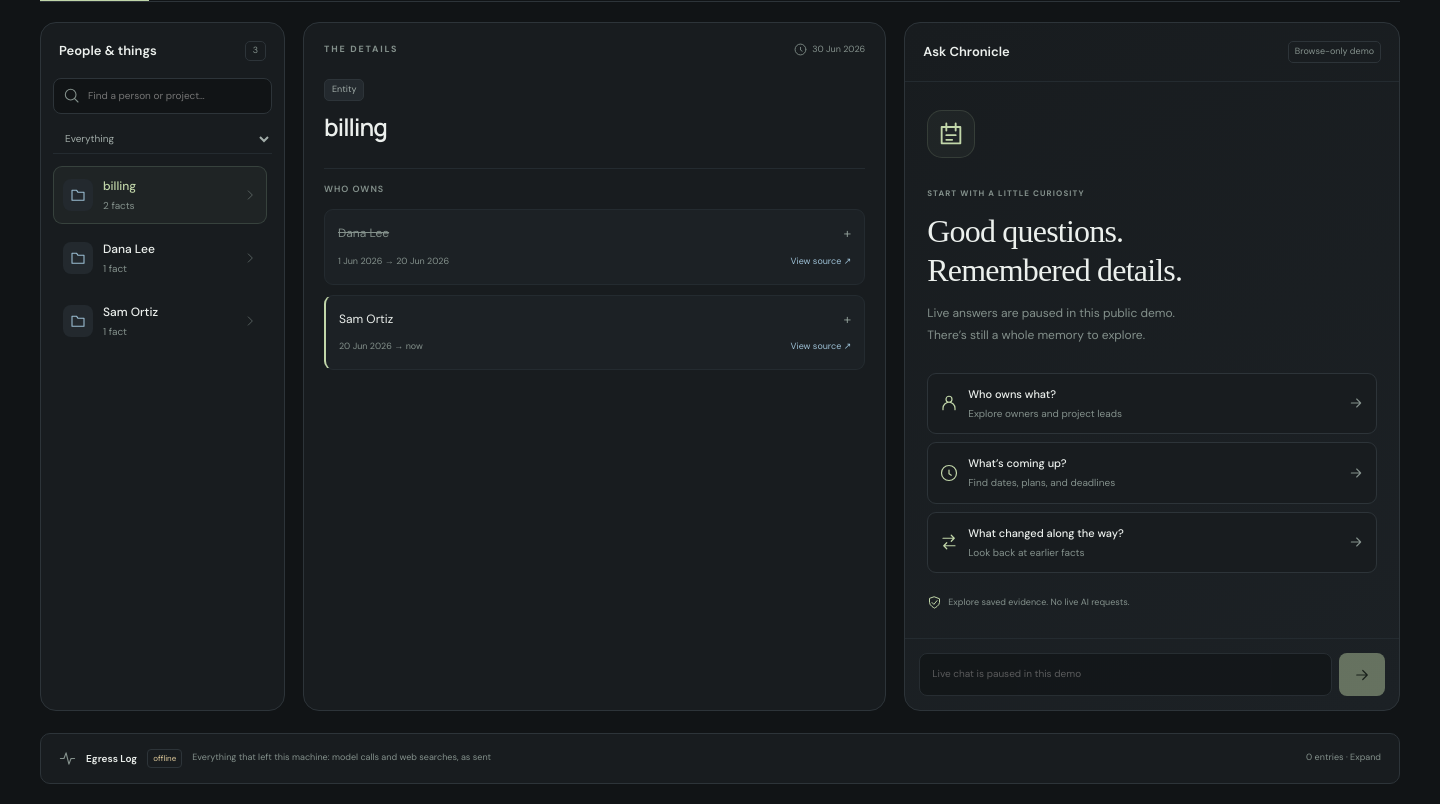
Scenario: live memory uses real facts and explains that paid chat is paused
(page scrolled)
Check: the text "Browse-only demo" is shown, box [1288,41,1381,63]
Check: the text box named "Chat unavailable in browse-only demo" is disabled, box [919,653,1332,696]
Click the button "Who owns what? Explore owners and project leads" at (1012, 394), box [927,373,1377,434]
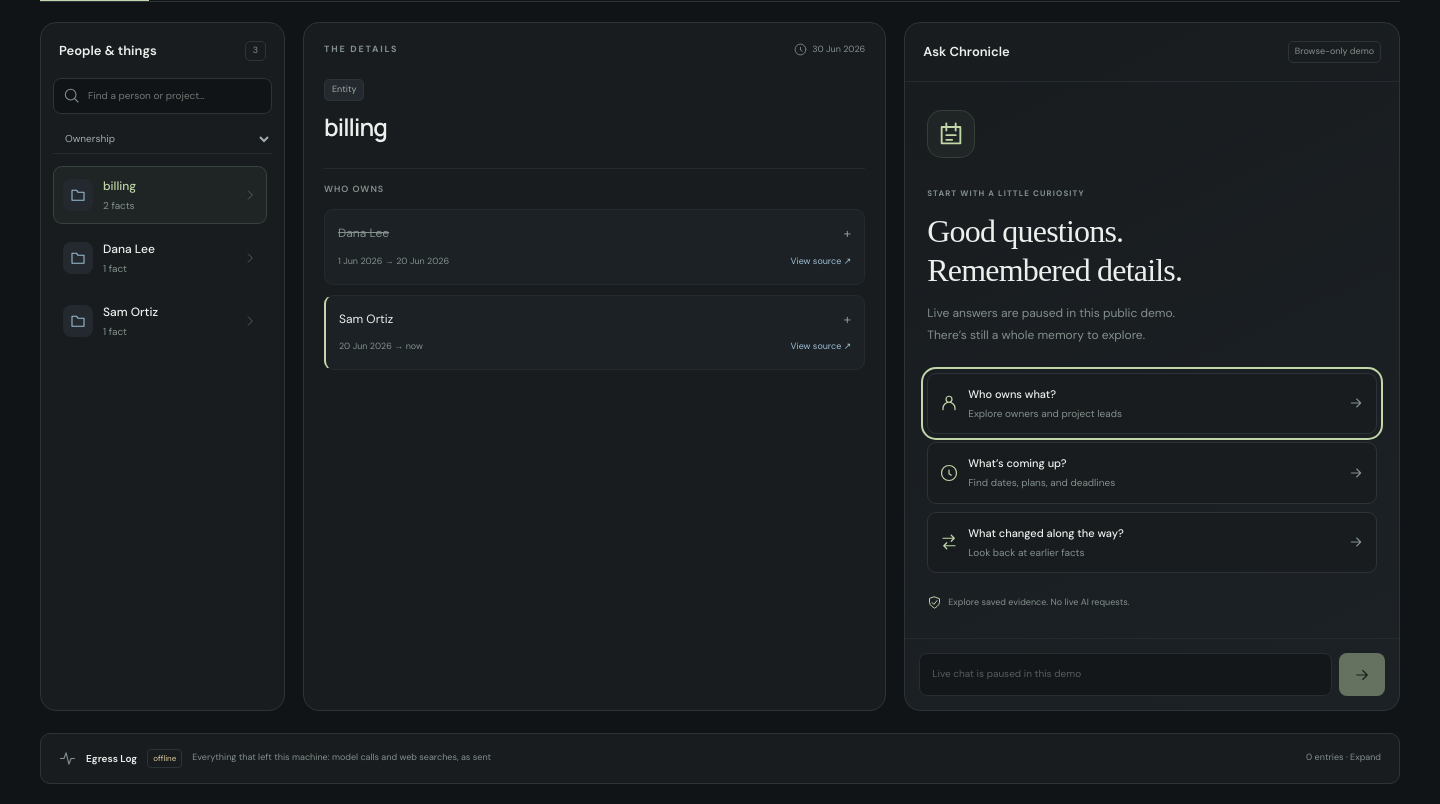
Check: the dropdown named "Filter memory" shows "Ownership", box [53,124,272,154]
